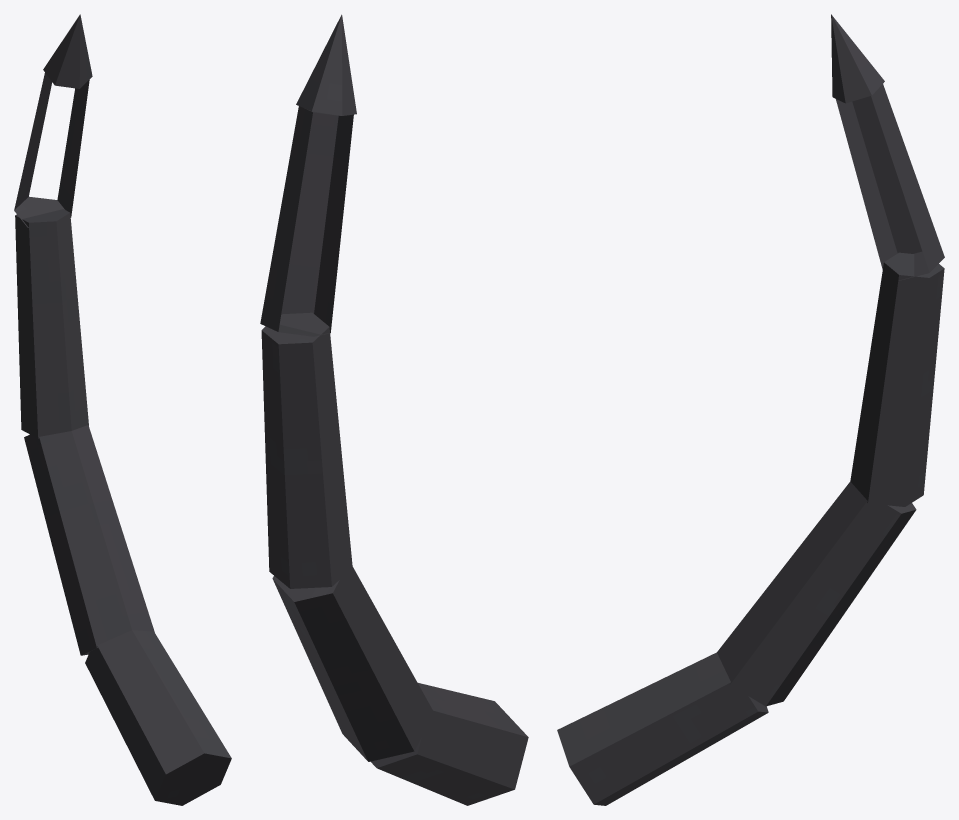
File: acc_tail_cat.glb
3 views of the same model, side by side, from view 1: azimuth 30°, elevation 25°; view 2: azimuth 150°, elevation 25°; view 3: azimuth 270°, elevation 25° (orthographic). The views are drawn at different scales.
Parts seen in each view (by area): view 1: acc_tail_cat; view 2: acc_tail_cat; view 3: acc_tail_cat.
Part boxes in pixels (x1=…): acc_tail_cat: x1=14, y1=14, x2=231, y2=805; acc_tail_cat: x1=260, y1=14, x2=528, y2=805; acc_tail_cat: x1=557, y1=14, x2=944, y2=805.
Bounding box in the file's own units: 0.0606 × 0.6302 × 0.2798.
Materials: 1 (1 with a texture image).
